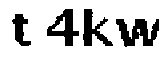4: (41, 6, 80, 48)
k: (82, 6, 114, 49)
t: (8, 12, 33, 51)
w: (114, 16, 160, 53)
